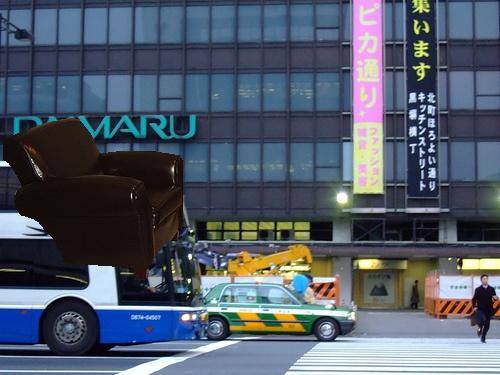tampered: (4, 119, 183, 280)
